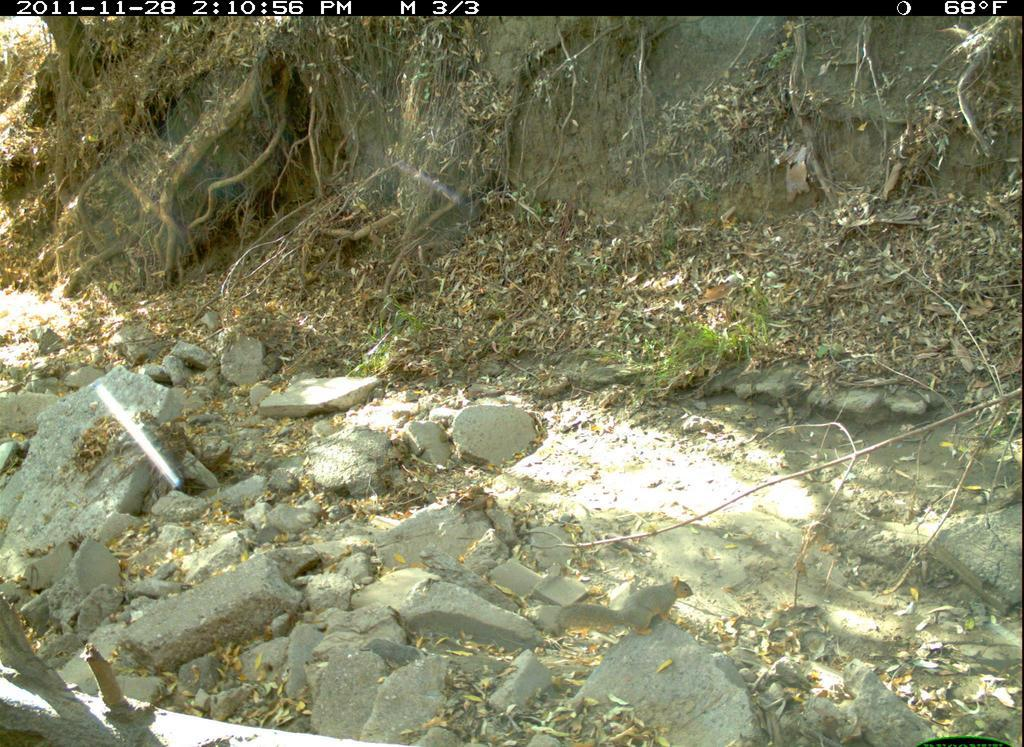squirrel: (548, 565, 701, 652)
